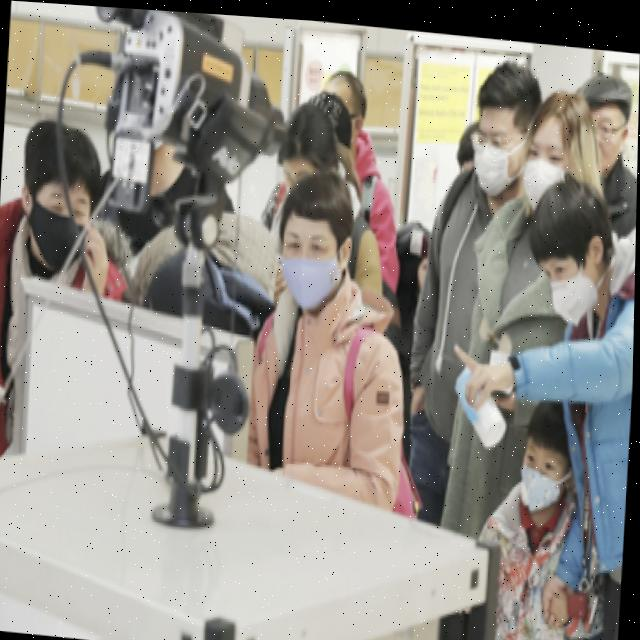Mask: (20, 181, 95, 270), (279, 235, 356, 306), (544, 248, 606, 325), (469, 120, 526, 189), (517, 444, 571, 504)
